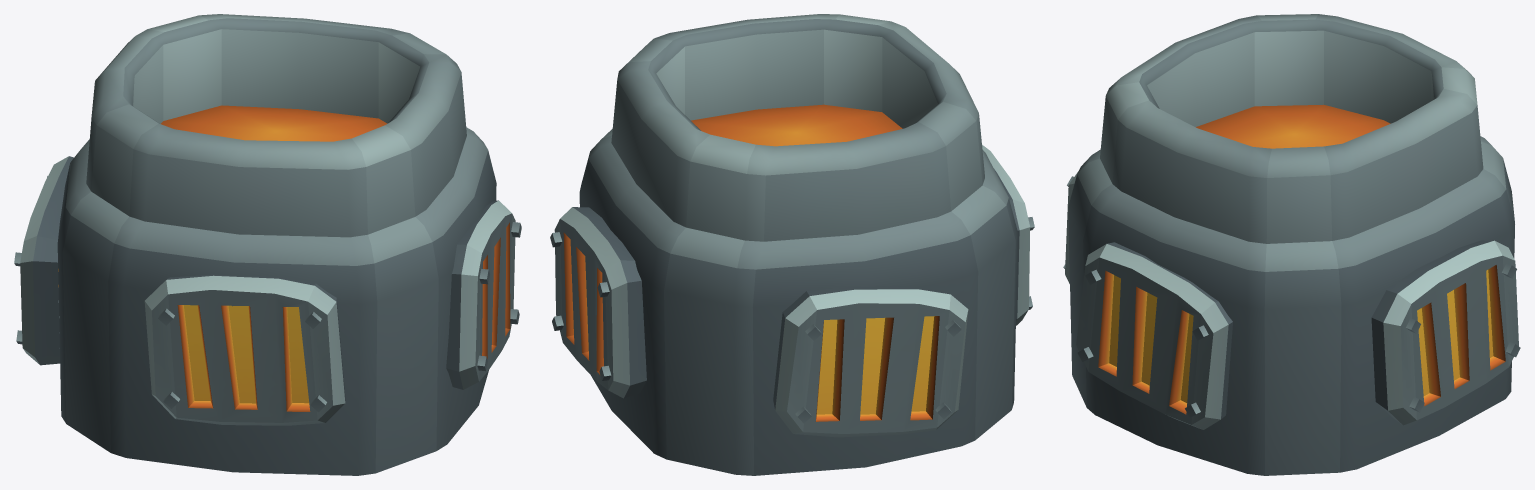
The model's file is metal_melter.fbx.
3 renders of one model, left to right at view 1: azimuth 30°, elevation 25°; view 2: azimuth 150°, elevation 25°; view 3: azimuth 270°, elevation 25°, orthographic. The views are drawn at different scales.
Visible parts, largest first — view 1: metal_melter; view 2: metal_melter; view 3: metal_melter.
Boxes of the visible parts, x1,y1,x2,y2 form: metal_melter: [14, 14, 521, 475]; metal_melter: [550, 14, 1034, 475]; metal_melter: [1063, 14, 1520, 475].
Size of the model in its own units: 331 by 233 by 324.
